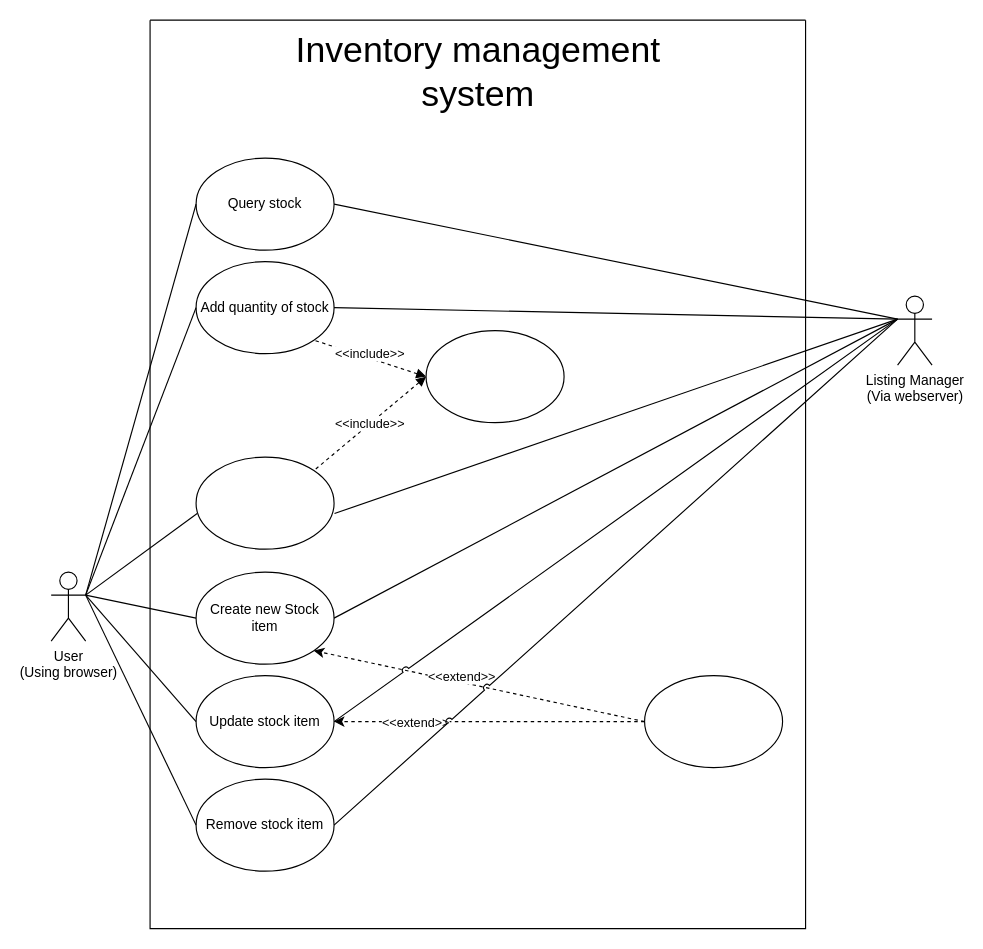
Some shapes in this 983 by 949 pixel diagram are drawn without their labels. Here are the shapes that lost their labels. From the top down, the box of each, then its label:
(425, 329, 564, 423): Confirm quantity
(195, 456, 334, 549): Remove quantity of stock
(643, 674, 783, 768): Error: Invalid data
